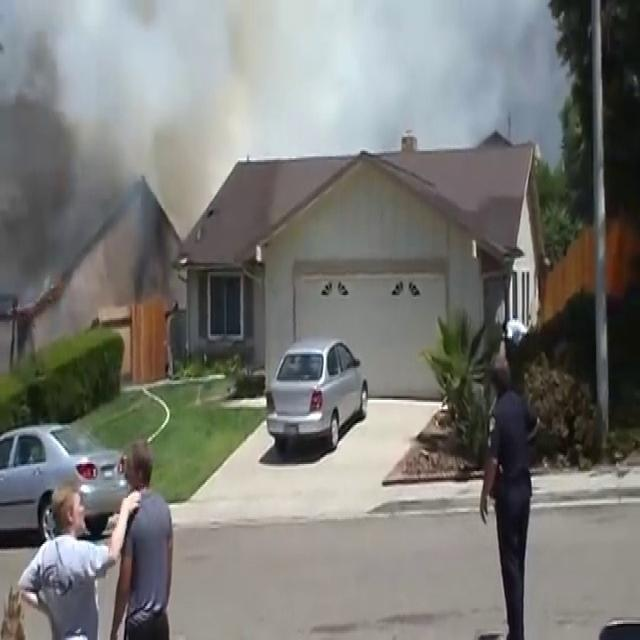Smoke: (0, 2, 260, 292)
